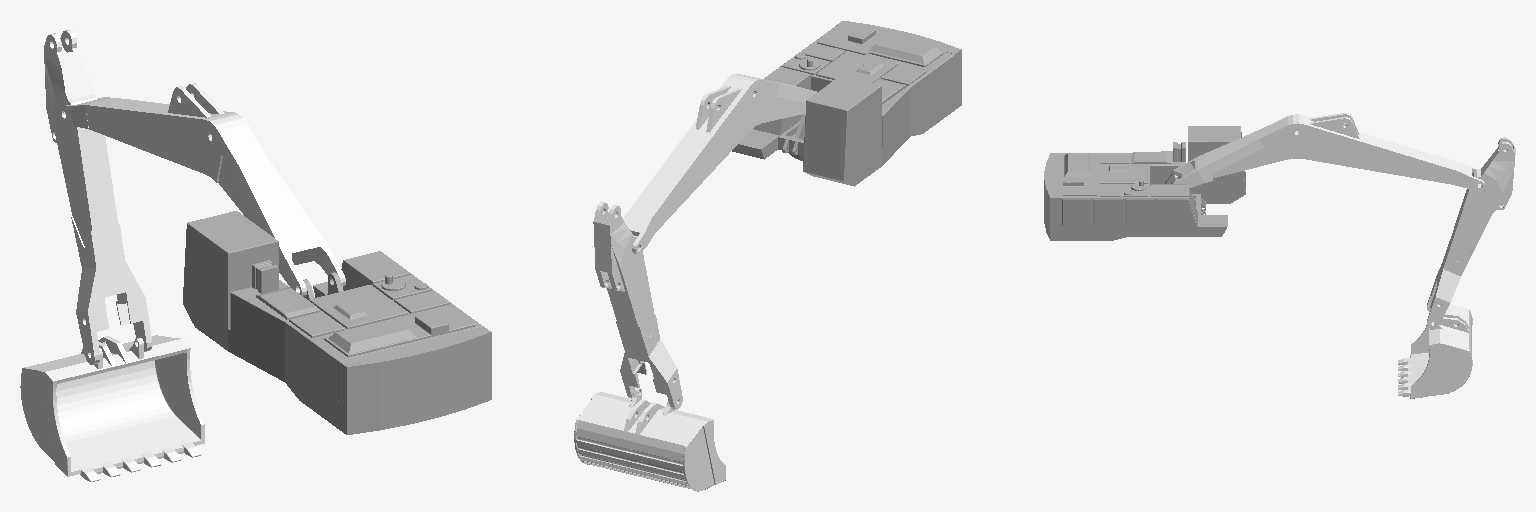
URDF robot description (excavatorplus):
<?xml version="1.0" encoding="utf-8"?>
<!-- This URDF was automatically created by SolidWorks to URDF Exporter! Originally created by [author] ([email redacted]) 
     Commit Version: 1.5.1-0-g916b5db  Build Version: 1.5.7152.31018
     For more information, please see http://wiki.ros.org/sw_urdf_exporter -->
<robot
  name="excavatorplus">
  <link
    name="base_link">
    <inertial>
      <origin
        xyz="-0.037276 -0.11211 -1.3696"
        rpy="0 0 0" />
      <mass
        value="1584.9" />
      <inertia
        ixx="2256.8"
        ixy="-0.00030194"
        ixz="0.00039682"
        iyy="1846.1"
        iyz="-4.069"
        izz="3789.3" />
    </inertial>
    <visual>
      <origin
        xyz="0 0 0"
        rpy="0 0 0" />
      <geometry>
        <mesh
          filename="package://meshes/base_link.STL" />
      </geometry>
      <material
        name="">
        <color
          rgba="0.75294 0.75294 0.75294 1" />
      </material>
    </visual>
    <collision>
      <origin
        xyz="0 0 0"
        rpy="0 0 0" />
      <geometry>
        <mesh
          filename="package://meshes/base_link.STL" />
      </geometry>
    </collision>
  </link>
  <link
    name="1huizhuantai">
    <inertial>
      <origin
        xyz="-0.033183 -0.98161 -0.29422"
        rpy="0 0 0" />
      <mass
        value="4155.4" />
      <inertia
        ixx="3529.1"
        ixy="203.56"
        ixz="1.8362"
        iyy="1890.9"
        iyz="99.215"
        izz="4823.8" />
    </inertial>
    <visual>
      <origin
        xyz="0 0 0"
        rpy="0 0 0" />
      <geometry>
        <mesh
          filename="package://meshes/1huizhuantai.STL" />
      </geometry>
      <material
        name="">
        <color
          rgba="0.75294 0.75294 0.75294 1" />
      </material>
    </visual>
    <collision>
      <origin
        xyz="0 0 0"
        rpy="0 0 0" />
      <geometry>
        <mesh
          filename="package://meshes/1huizhuantai.STL" />
      </geometry>
    </collision>
  </link>
  <joint
    name="joint1"
    type="continuous">
    <origin
      xyz="-0.037276 -0.092793 0"
      rpy="0 0 0" />
    <parent
      link="base_link" />
    <child
      link="1huizhuantai" />
    <axis
      xyz="0 0 -1" />
    <limit
      lower="-2.5"
      upper="2.5"
      effort="100"
      velocity="1" />
  </joint>
  <link
    name="2dongbi">
    <inertial>
      <origin
        xyz="-5.4753E-15 2.7656 0.58457"
        rpy="0 0 0" />
      <mass
        value="1139.2" />
      <inertia
        ixx="2254.3"
        ixy="-1.5608E-12"
        ixz="1.039E-12"
        iyy="117.73"
        iyz="110.05"
        izz="2173.1" />
    </inertial>
    <visual>
      <origin
        xyz="0 0 0"
        rpy="0 0 0" />
      <geometry>
        <mesh
          filename="package://meshes/2dongbi.STL" />
      </geometry>
      <material
        name="">
        <color
          rgba="1 1 1 1" />
      </material>
    </visual>
    <collision>
      <origin
        xyz="0 0 0"
        rpy="0 0 0" />
      <geometry>
        <mesh
          filename="package://meshes/2dongbi.STL" />
      </geometry>
    </collision>
  </link>
  <joint
    name="joint2"
    type="revolute">
    <origin
      xyz="0 0.1 0"
      rpy="0 0 0" />
    <parent
      link="1huizhuantai" />
    <child
      link="2dongbi" />
    <axis
      xyz="1 0 0" />
    <limit
      lower="-0.7987"
      upper="1.0360"
      effort="100"
      velocity="1" />
  </joint>
  <link
    name="3dougan">
    <inertial>
      <origin
        xyz="-6.546E-13 0.8525 0.13673"
        rpy="0 0 0" />
      <mass
        value="588.48" />
      <inertia
        ixx="532.28"
        ixy="1.0515E-11"
        ixz="-1.0057E-12"
        iyy="30.031"
        iyz="47.289"
        izz="525.77" />
    </inertial>
    <visual>
      <origin
        xyz="0 0 0"
        rpy="0 0 0" />
      <geometry>
        <mesh
          filename="package://meshes/3dougan.STL" />
      </geometry>
      <material
        name="">
        <color
          rgba="1 1 1 1" />
      </material>
    </visual>
    <collision>
      <origin
        xyz="0 0 0"
        rpy="0 0 0" />
      <geometry>
        <mesh
          filename="package://meshes/3dougan.STL" />
      </geometry>
    </collision>
  </link>
  <joint
    name="joint3"
    type="revolute">
    <origin
      xyz="0 5.7 0"
      rpy="0 0 0" />
    <parent
      link="2dongbi" />
    <child
      link="3dougan" />
    <axis
      xyz="1 0 0" />
    <limit
      lower="-2.9552"
      upper="-0.7987"
      effort="100"
      velocity="1" />
  </joint>
  <link
    name="4chandou">
    <inertial>
      <origin
        xyz="0.63243 0.41031 6.167E-07"
        rpy="0 0 0" />
      <mass
        value="285.1" />
      <inertia
        ixx="135.44"
        ixy="12.871"
        ixz="0.0021992"
        iyy="173.33"
        iyz="-0.0023358"
        izz="90.525" />
    </inertial>
    <visual>
      <origin
        xyz="0 0 0"
        rpy="0 0 0" />
      <geometry>
        <mesh
          filename="package://meshes/4chandou.STL" />
      </geometry>
      <material
        name="">
        <color
          rgba="1 1 1 1" />
      </material>
    </visual>
    <collision>
      <origin
        xyz="0 0 0"
        rpy="0 0 0" />
      <geometry>
        <mesh
          filename="package://meshes/4chandou.STL" />
      </geometry>
    </collision>
  </link>
  <joint
    name="joint4"
    type="revolute">
    <origin
      xyz="0 2.925 0"
      rpy="1.5708 0 1.5708" />
    <parent
      link="3dougan" />
    <child
      link="4chandou" />
    <axis
      xyz="0 0 1" />
    <limit
      lower="-2.7163"
      upper="0.5633"
      effort="100"
      velocity="1" />
  </joint>
</robot>

--- Render facts (derived) ---
The picture shows the robot from 3 angles, left to right: view 1: azimuth 30°, elevation 25°; view 2: azimuth 150°, elevation 25°; view 3: azimuth 270°, elevation 25°; orthographic projection.
Robot: excavatorplus — 5 links, 4 joints (3 revolute, 1 continuous); root link base_link; default pose: joints at zero except 1 at the middle of their limits (joint3 = -1.88).
Visible links, largest first — view 1: 1huizhuantai, 4chandou, 2dongbi, 3dougan; view 2: 1huizhuantai, 4chandou, 2dongbi, 3dougan; view 3: 1huizhuantai, 2dongbi, 3dougan, 4chandou.
Boxes of the visible links, x1,y1,x2,y2 form: 1huizhuantai: [183, 211, 491, 434]; 4chandou: [20, 335, 204, 481]; 2dongbi: [60, 83, 345, 296]; 3dougan: [44, 30, 151, 364]; 1huizhuantai: [732, 21, 961, 186]; 4chandou: [574, 387, 725, 491]; 2dongbi: [623, 74, 816, 254]; 3dougan: [593, 202, 682, 409]; 1huizhuantai: [1044, 126, 1245, 240]; 2dongbi: [1172, 113, 1484, 190]; 3dougan: [1427, 137, 1515, 328]; 4chandou: [1398, 304, 1472, 398].
Bounding box of the posed robot: 2.16 × 8.86 × 5.48 m (x, y, z).
Meshes: 5 distinct files referenced, 4 mesh visuals loaded (4 binary STL); not drawn: 1 (reference not matched to a file when rendering).